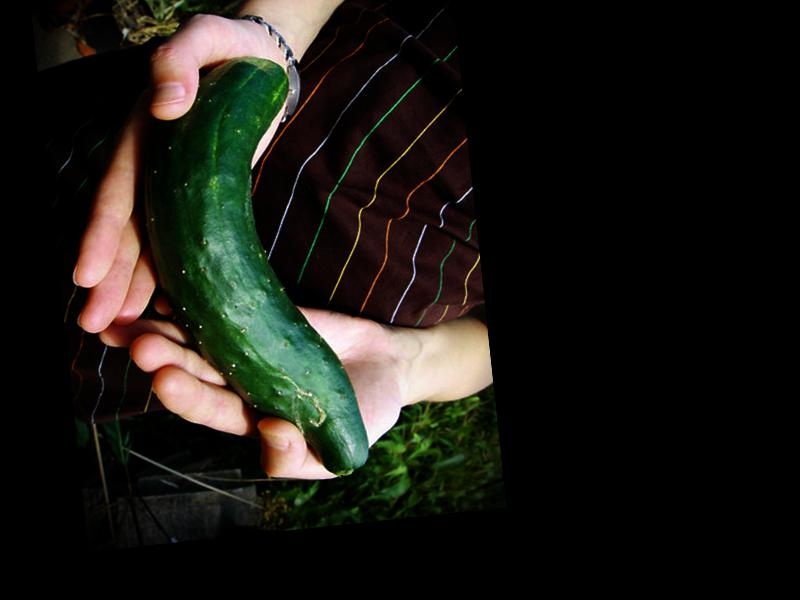Cucumber: (129, 48, 371, 491)
